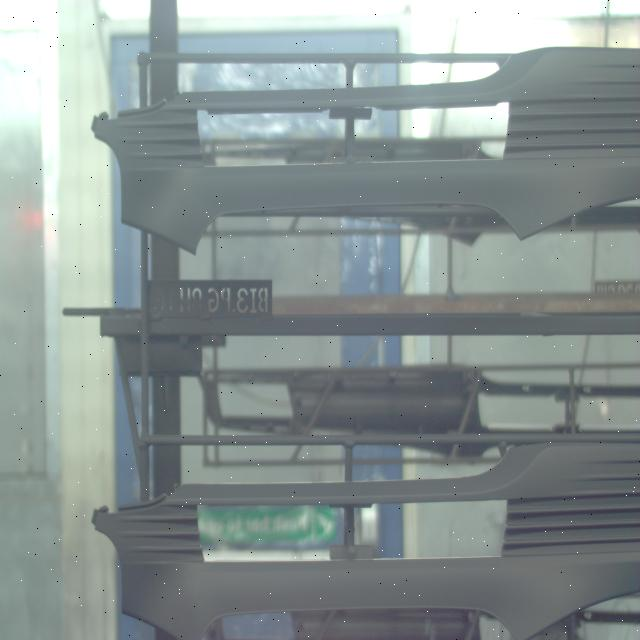Primered: (92, 42, 637, 256), (92, 434, 638, 637)
